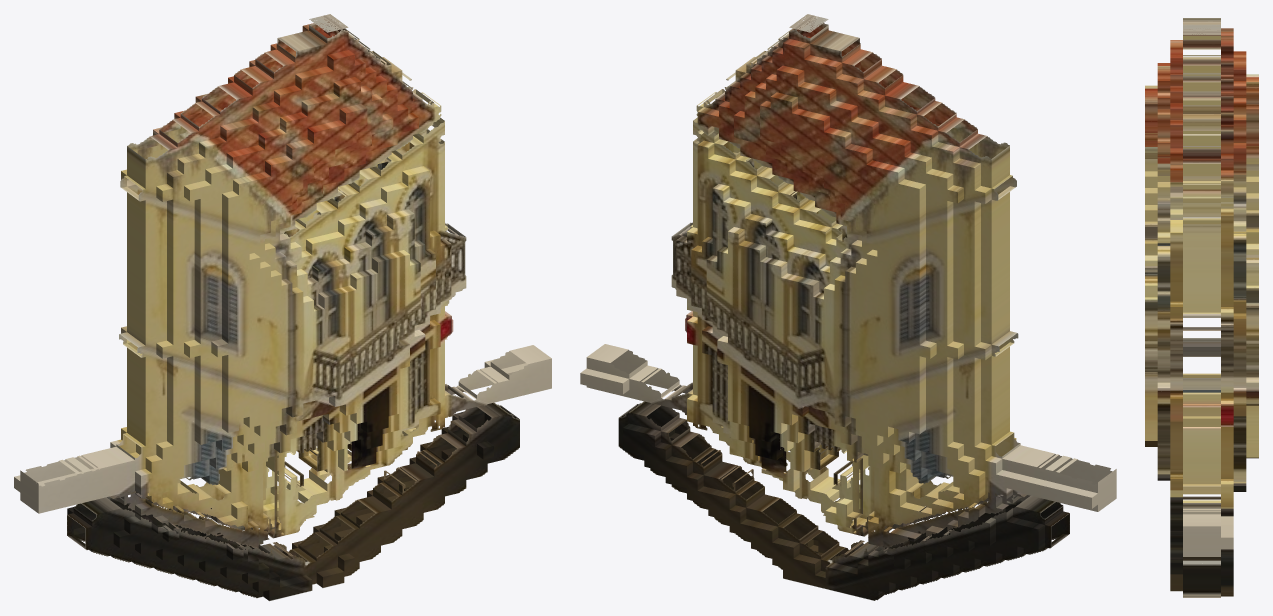
Rendered from house_0.glb.
The picture shows the model from 3 angles, left to right: view 1: azimuth 30°, elevation 25°; view 2: azimuth 150°, elevation 25°; view 3: azimuth 270°, elevation 25°; orthographic projection. The views are drawn at different scales.
Parts seen in each view (by area): view 1: house_0; view 2: house_0; view 3: house_0.
Boxes of the visible parts, box(x1,y1,x2,y2) form: house_0: box(14, 14, 551, 601); house_0: box(580, 14, 1116, 600); house_0: box(1145, 18, 1258, 597).
Bounding box in the file's own units: 48 × 49 × 9.
1 material, 1 textured.
